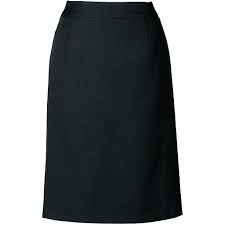F_tailored skirt: (35, 1, 189, 223)
